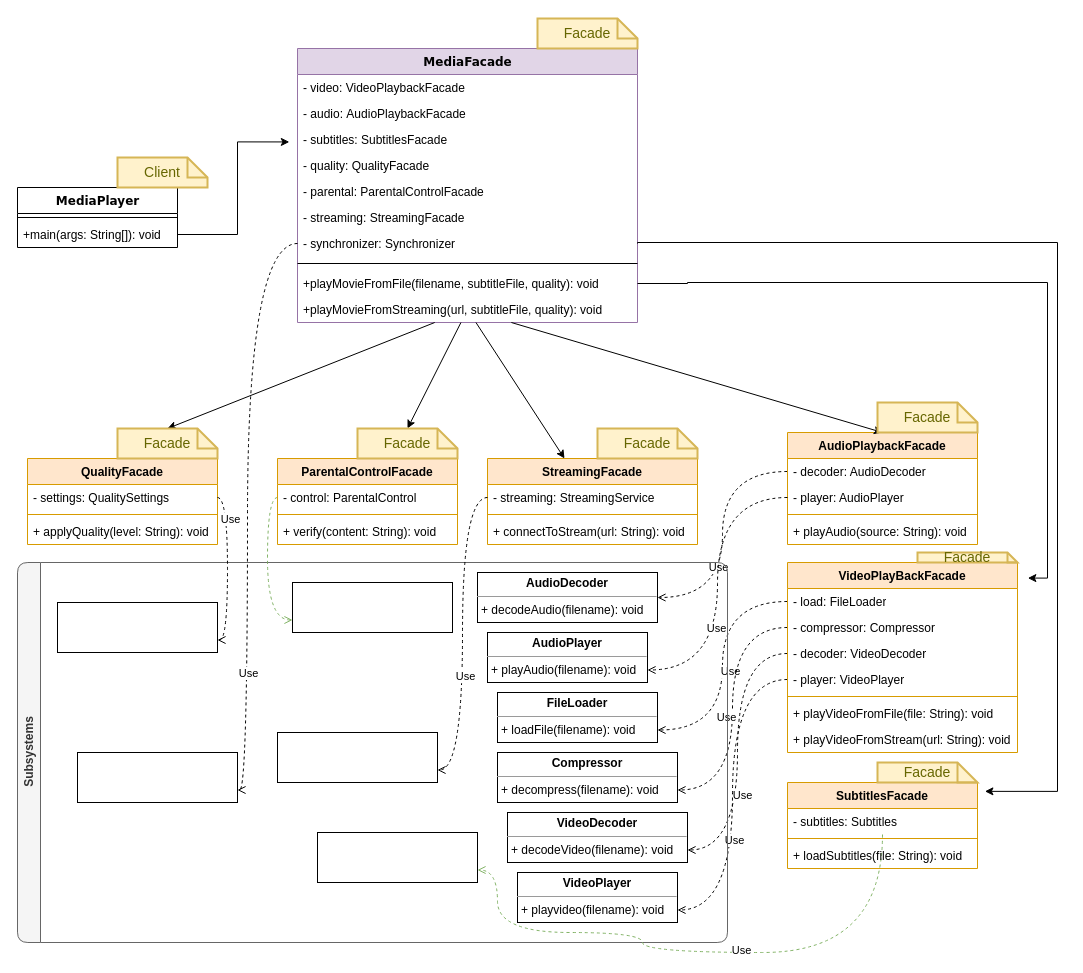
Some shapes in this 1083 by 973 pixel diagram are drawn without their labels. The shapes that lost their labels are listed below. From the top down, each one's centre as x and y in pixels, then its label:
point (137, 627): QualitySettings + setQuality(level): void
point (372, 607): ParentalControl + checkPermissions(file): void
point (157, 777): Synchronizer + sync(filename): void
point (357, 757): StreamingService + connect(url): void
point (397, 857): Subtitles + load(subtitleFile): void
